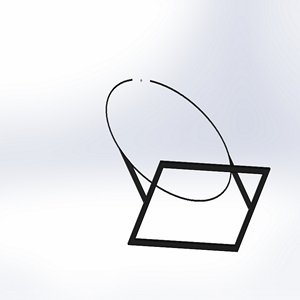circle: (102, 75, 271, 253)
